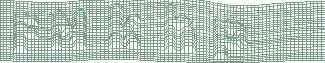F: (11, 11, 39, 55)
N: (50, 6, 88, 53)
P: (212, 17, 249, 61)
h: (162, 3, 199, 55)
k: (107, 1, 143, 52)
